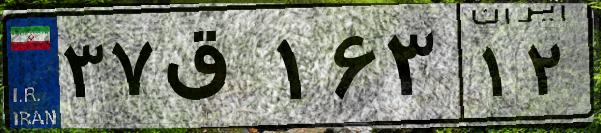1: (270, 28, 330, 110), (475, 38, 525, 113)
2: (525, 38, 570, 115)
3: (385, 28, 445, 110), (57, 26, 110, 100)
6: (330, 28, 385, 110)
7: (110, 28, 158, 98)
ق: (158, 20, 270, 120)
